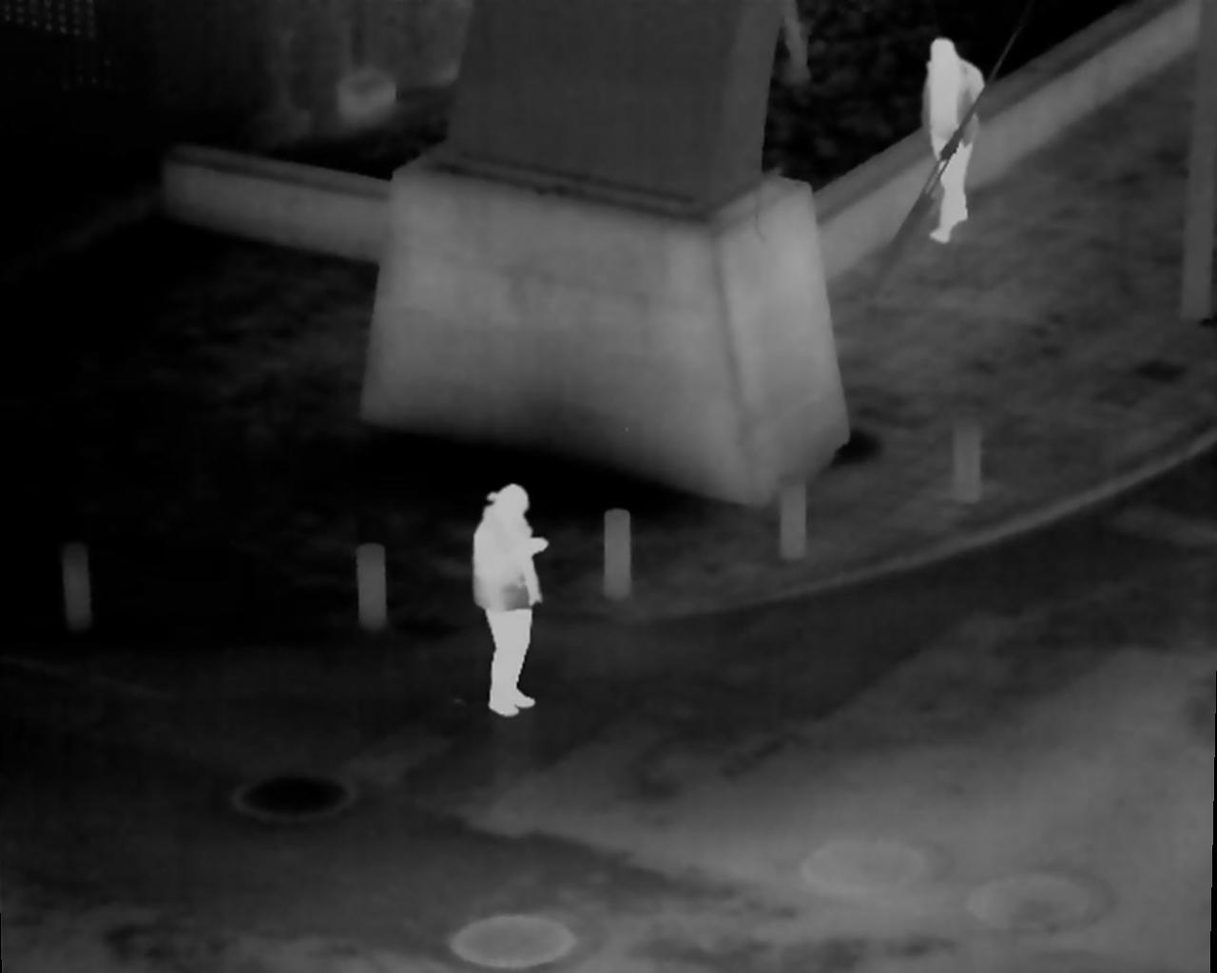person: (468, 480, 541, 722), (920, 41, 987, 246)
